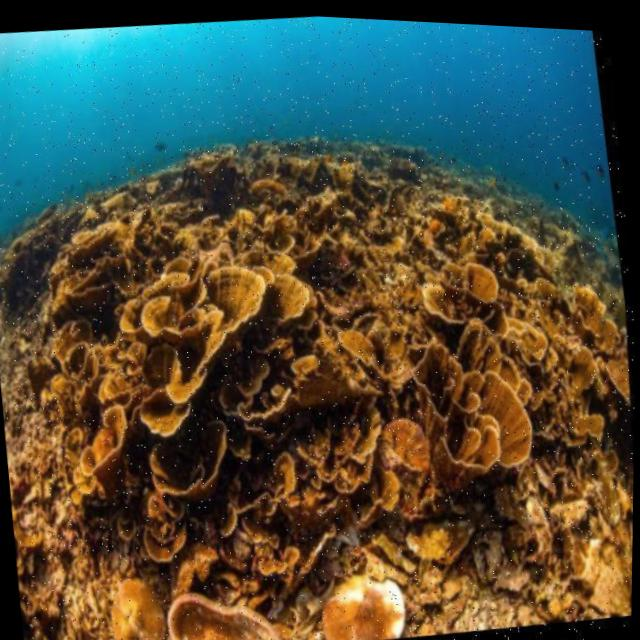Healthy Coral: (12, 115, 639, 640)
